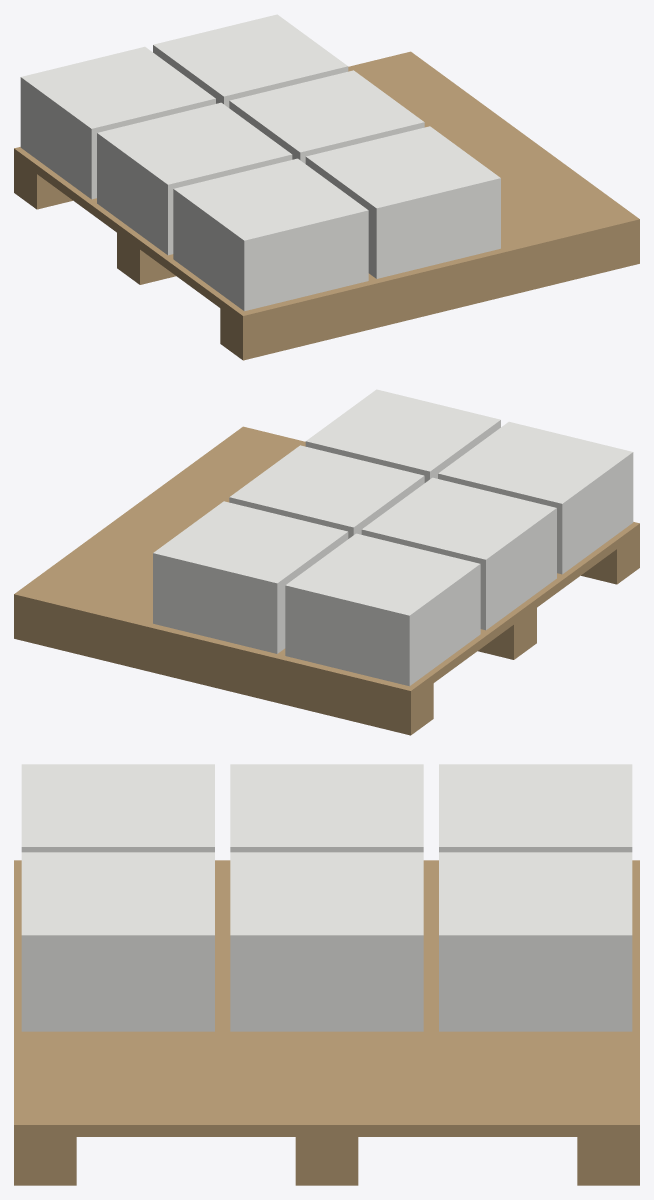
Rendered from pallet_mp_06.glb.
3 renders of one model, top to bottom at view 1: azimuth 30°, elevation 25°; view 2: azimuth 150°, elevation 25°; view 3: azimuth 270°, elevation 25°, orthographic. The views are drawn at different scales.
Visible parts, largest first — view 1: PalletMP; view 2: PalletMP; view 3: PalletMP.
Boxes of the visible parts, bbox=[...] form: PalletMP: bbox=[14, 14, 639, 360]; PalletMP: bbox=[14, 389, 639, 735]; PalletMP: bbox=[14, 764, 639, 1185].
Size of the model in its own units: 1 by 0.2814 by 1.
